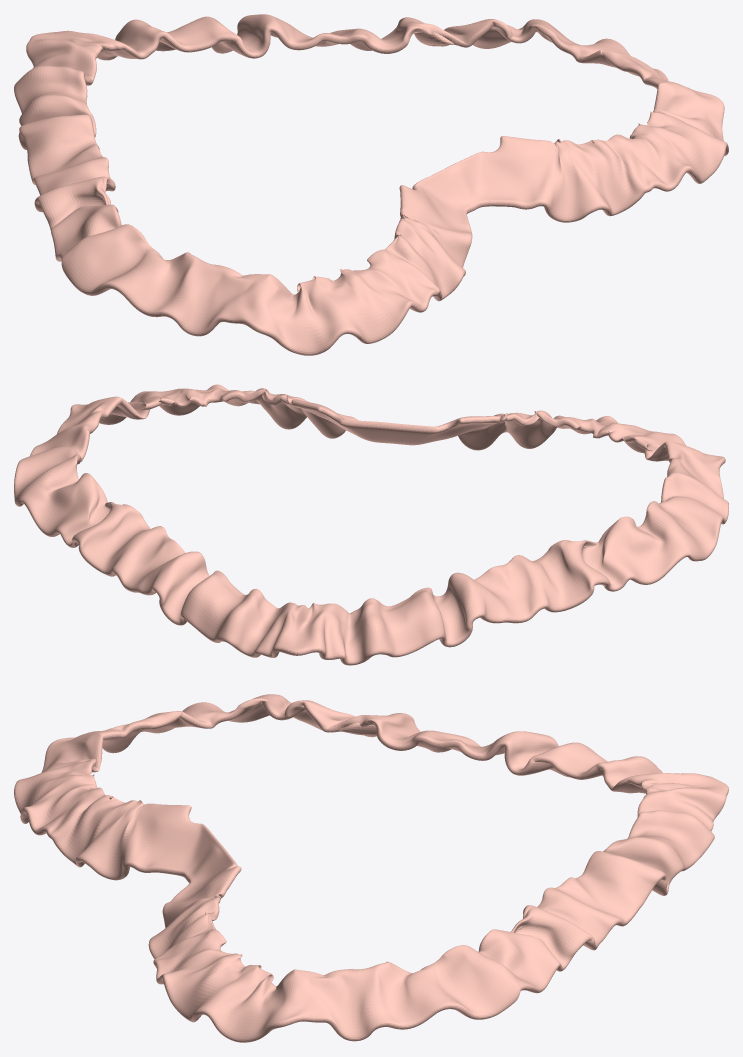
File: cherrycake2.glb
3 renders of one model, top to bottom at view 1: azimuth 30°, elevation 25°; view 2: azimuth 150°, elevation 25°; view 3: azimuth 270°, elevation 25°, orthographic. The views are drawn at different scales.
Visible parts, largest first — view 1: Plane.002; view 2: Plane.002; view 3: Plane.002.
Part boxes in pixels (box(x1,y1,x2,y2)): Plane.002: box(14, 14, 728, 355); Plane.002: box(14, 384, 728, 665); Plane.002: box(14, 694, 728, 1042).
Bounding box in the file's own units: 10.05 × 1.03 × 9.5.
